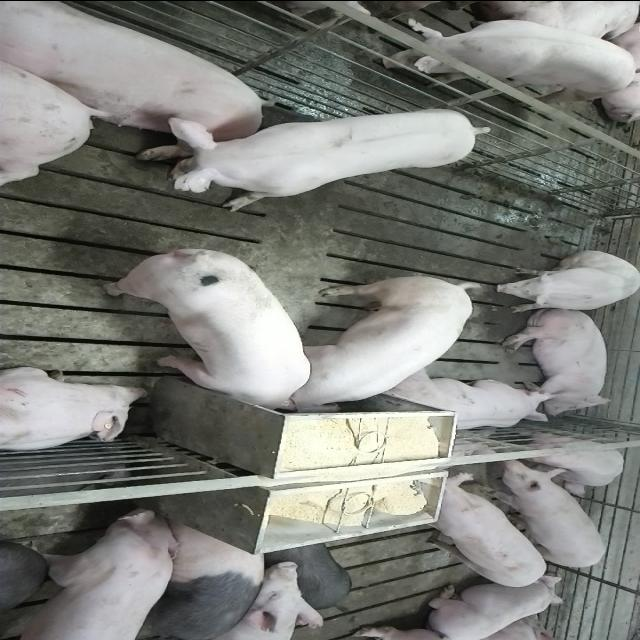Feeding: (101, 250, 312, 420), (281, 270, 478, 410)
Lateral_lying: (500, 307, 616, 417)
Sitting: (494, 250, 640, 312)
Standing: (143, 106, 493, 210), (376, 11, 636, 106), (0, 505, 183, 638), (130, 515, 268, 637), (410, 472, 548, 588), (478, 459, 608, 570), (505, 428, 627, 484), (0, 537, 50, 633)
Sternal_lying: (0, 365, 149, 453), (377, 370, 555, 432), (424, 576, 568, 637)
